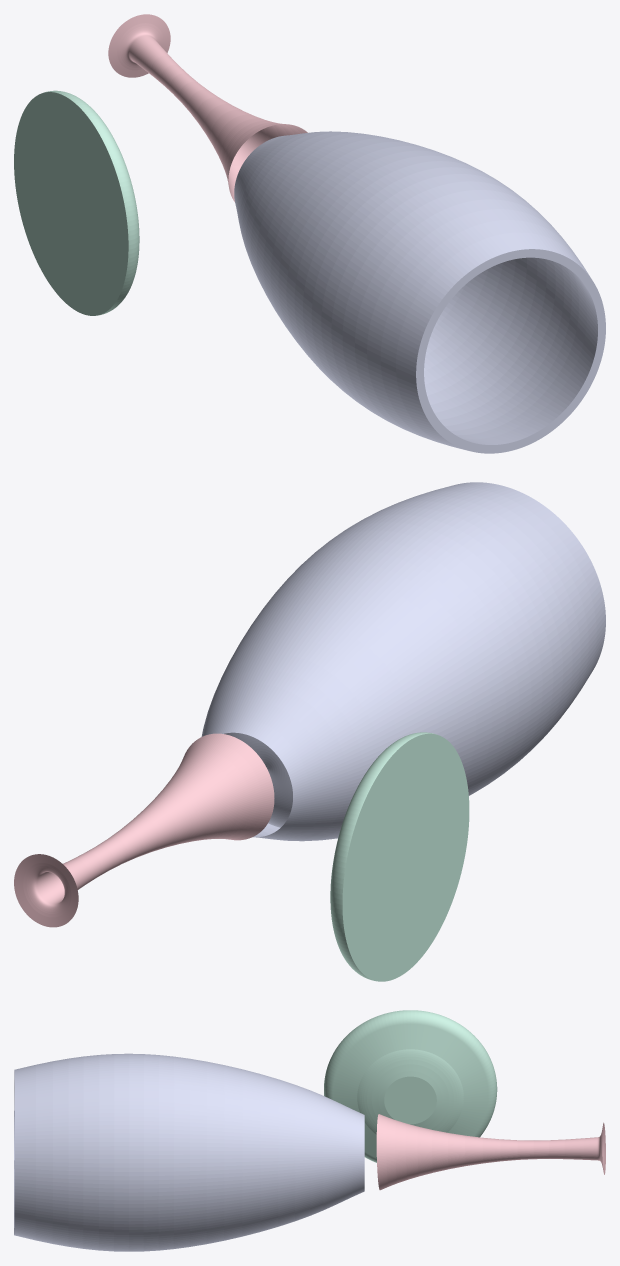
Rendered from view_input_colored.glb.
The picture shows the model from 3 angles, top to bottom: view 1: azimuth 30°, elevation 25°; view 2: azimuth 150°, elevation 25°; view 3: azimuth 270°, elevation 25°; orthographic projection. The views are drawn at different scales.
Visible parts, largest first — view 1: world; view 2: world; view 3: world.
Boxes of the visible parts, x1,y1,x2,y2 form: world: (14, 14, 605, 453); world: (14, 482, 605, 981); world: (14, 1010, 605, 1251).
Bounding box in the file's own units: 0.4046 × 0.3164 × 0.9457.
